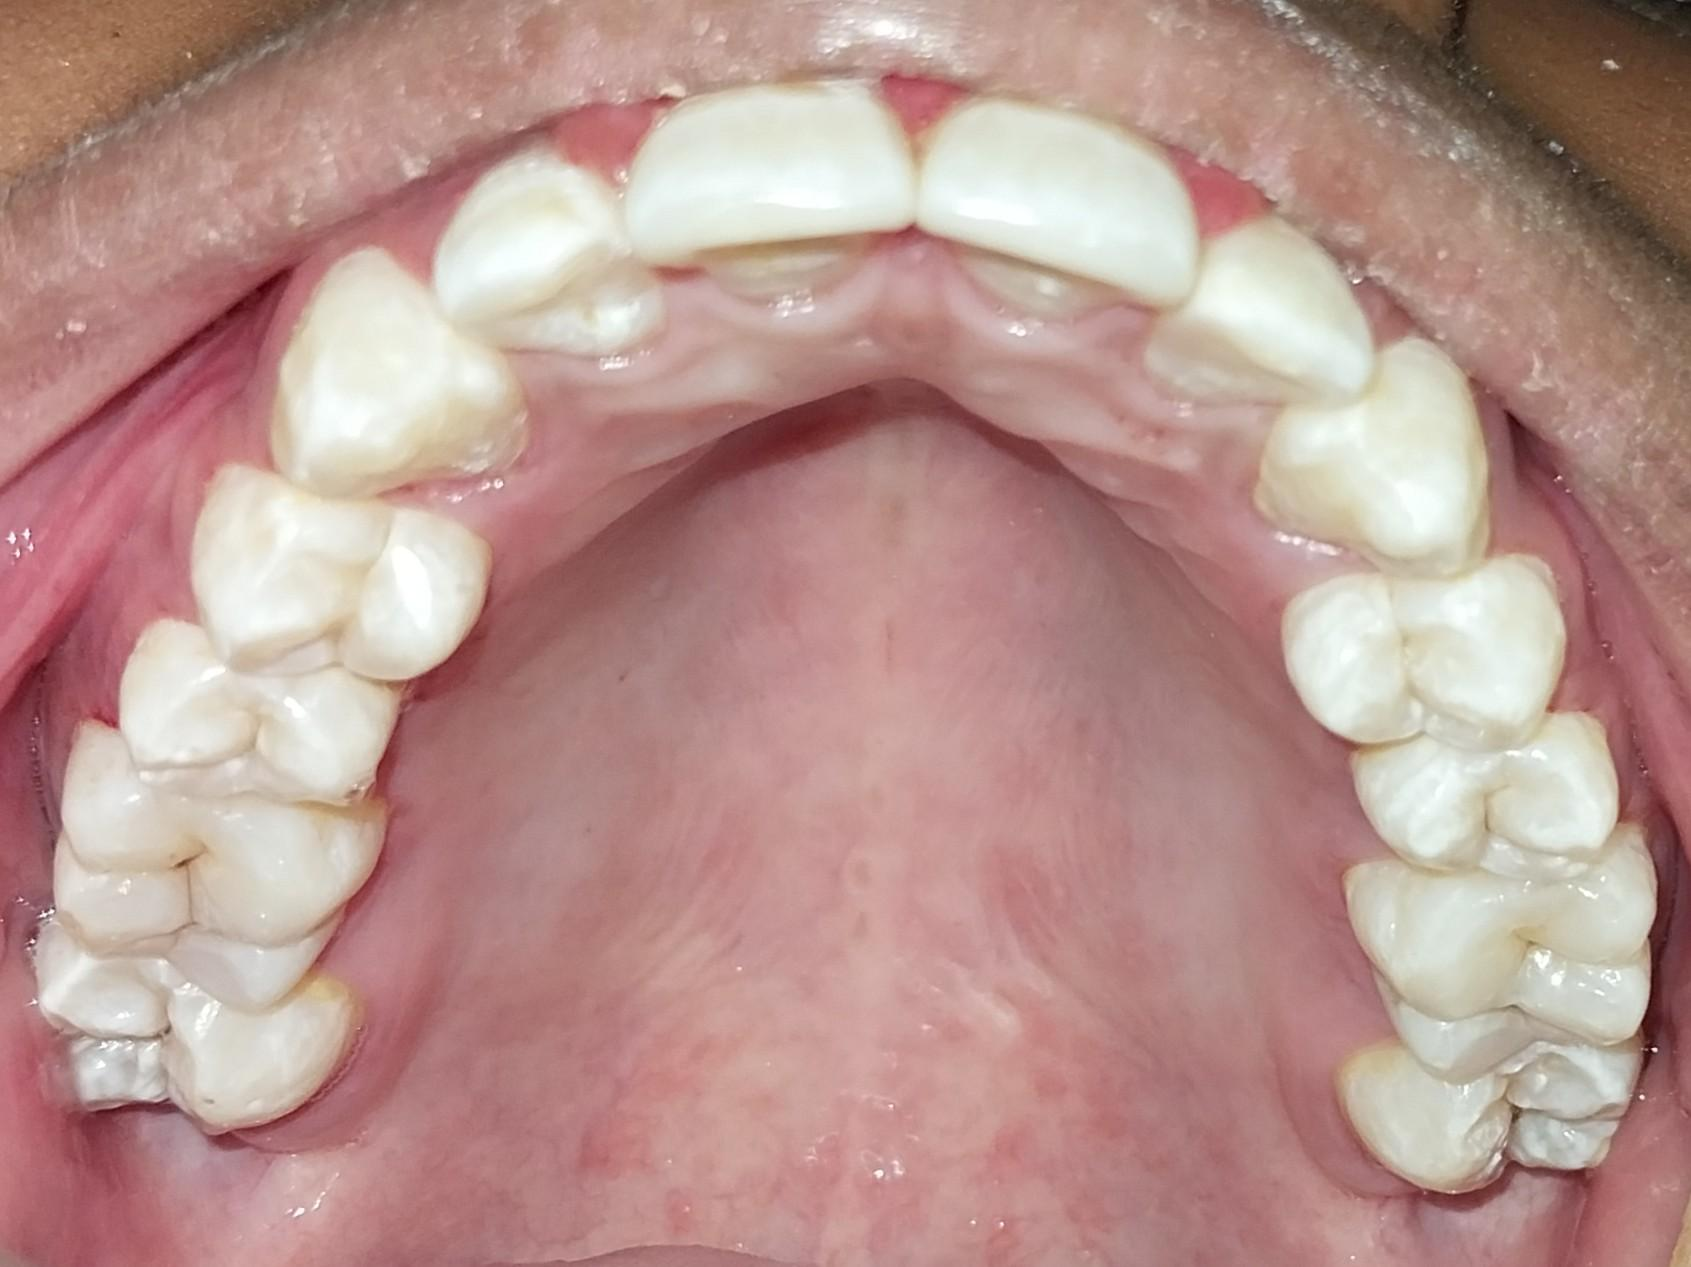D: (1336, 1036, 1639, 1197)
